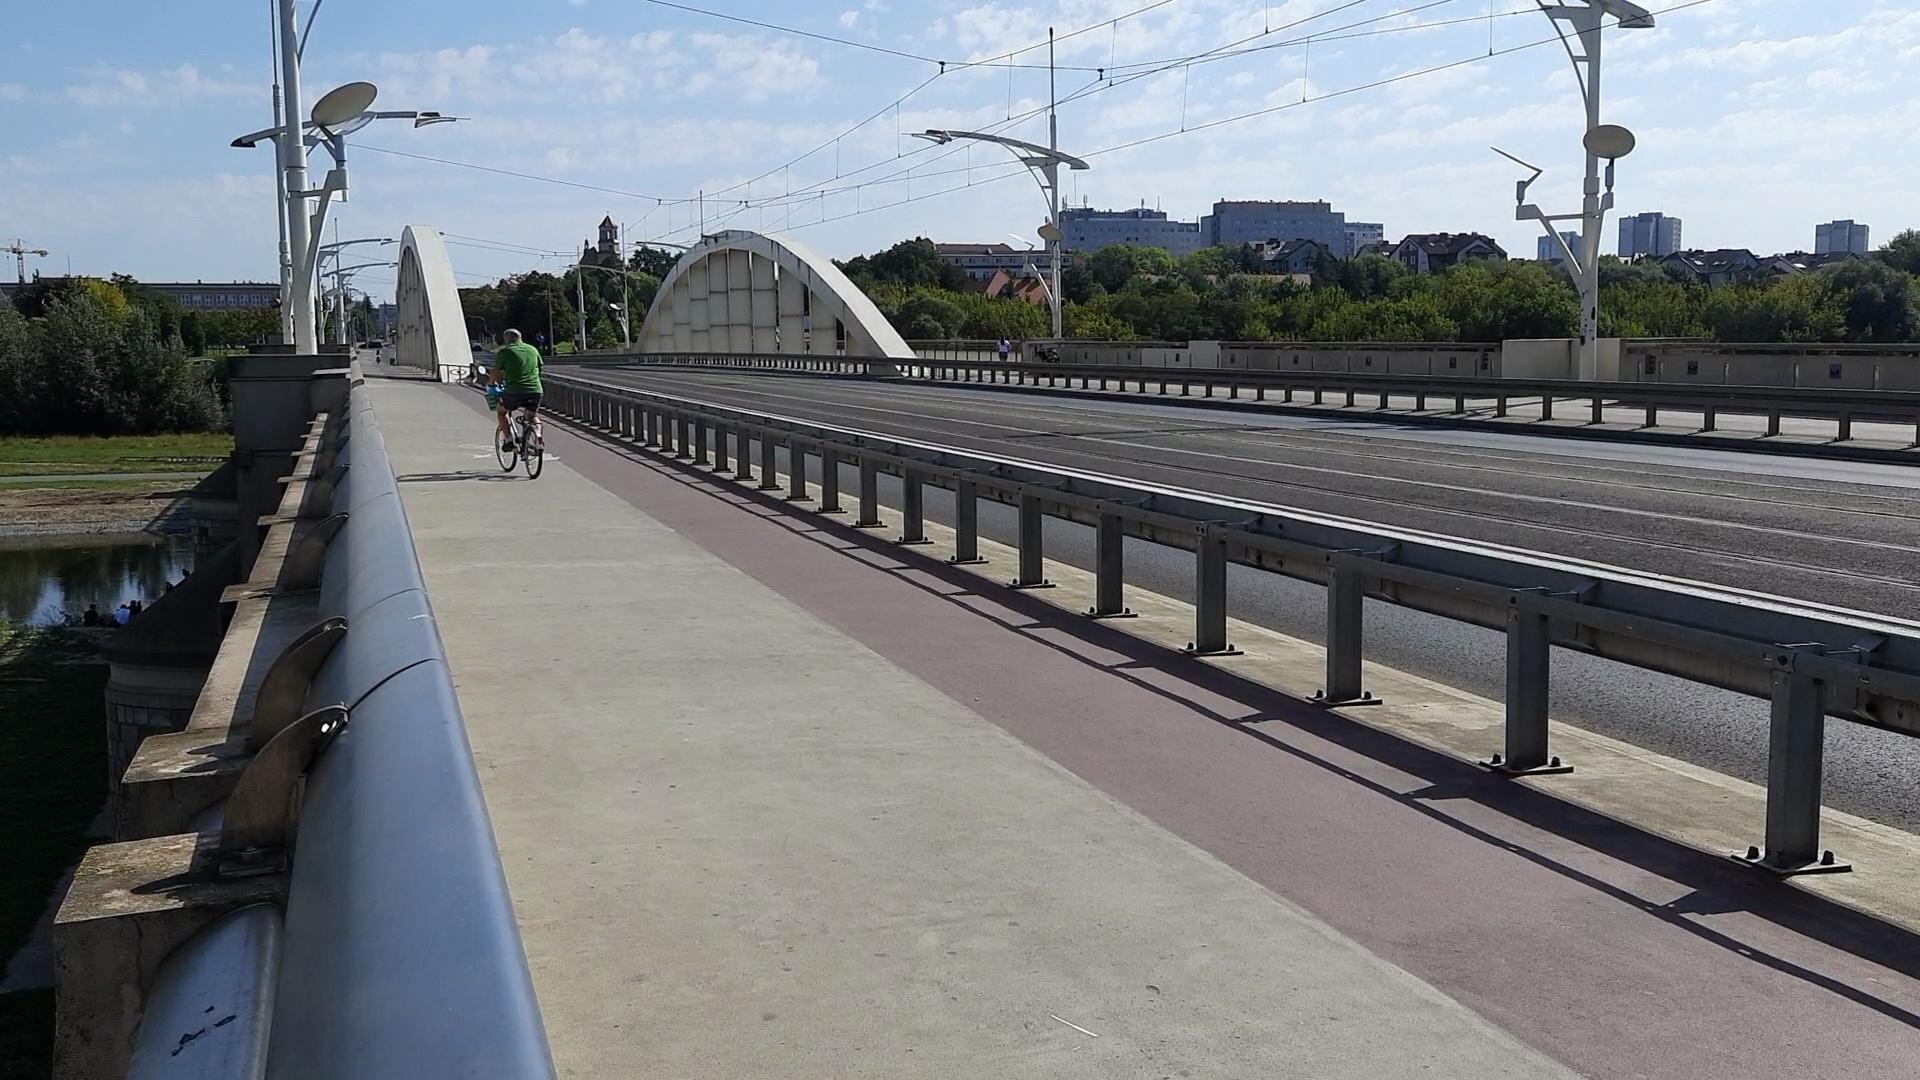cyclist: (467, 324, 576, 491)
